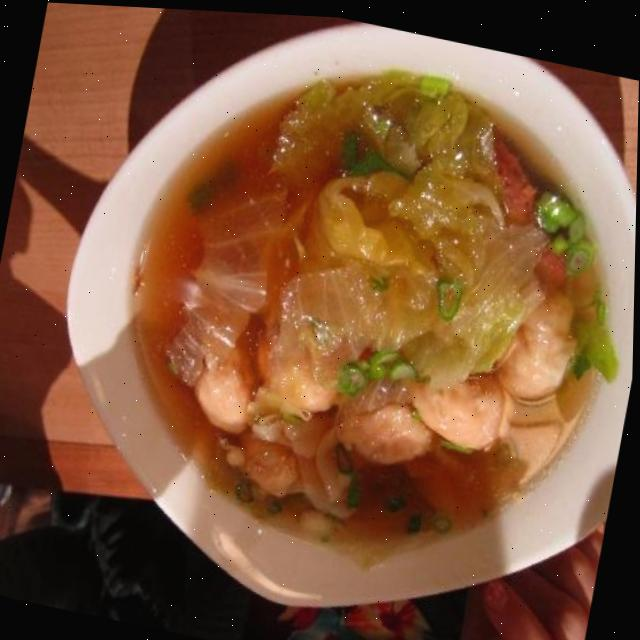汤锅炖物: (64, 3, 640, 623)
